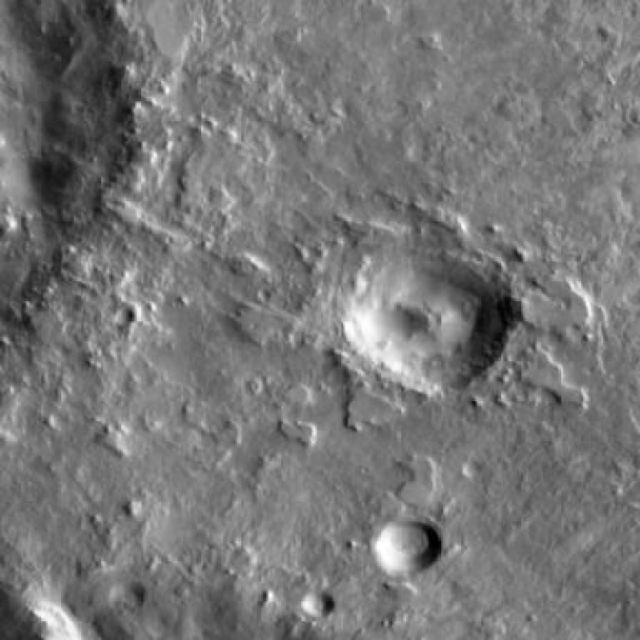crater: (334, 246, 498, 388), (362, 520, 432, 580), (104, 584, 136, 610), (306, 591, 336, 617)
